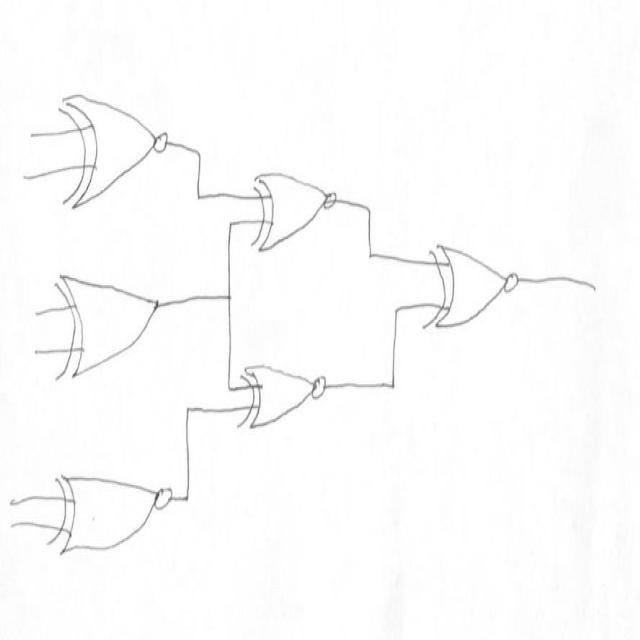XNOR: (50, 83, 181, 214), (419, 224, 530, 352), (53, 461, 183, 561), (248, 156, 360, 260), (237, 340, 337, 442)
XOR: (50, 248, 174, 393)
